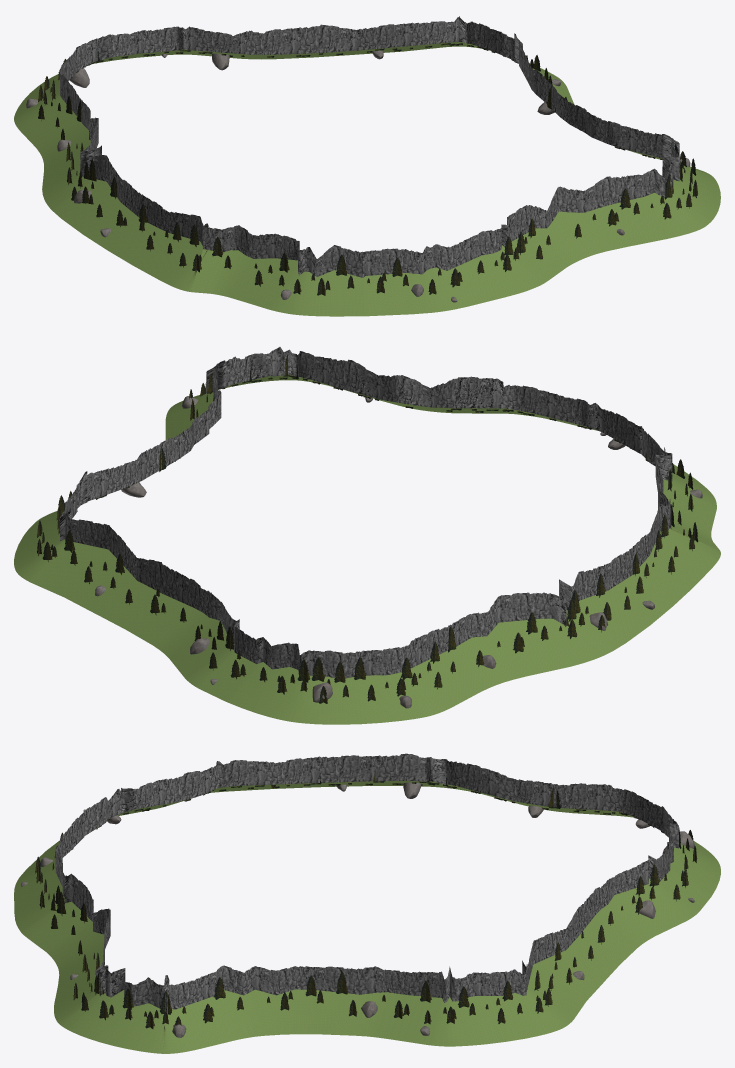
3 renders of one model, top to bottom at view 1: azimuth 30°, elevation 25°; view 2: azimuth 150°, elevation 25°; view 3: azimuth 270°, elevation 25°, orthographic. The views are drawn at different scales.
Parts seen in each view (by area): view 1: Wall_03, Wall_01, Wall_02, Wall_00, Wall_07, Wall_09, Wall_06, Wall_04, Wall_05, Wall_08, Trees_00, Trees_03 (+3 smaller); view 2: Wall_09, Wall_08, Wall_07, Wall_00, Wall_06, Wall_03, Wall_02, Wall_01, Wall_05, Wall_04, Trees_08, Trees_09 (+4 smaller); view 3: Wall_05, Wall_04, Wall_07, Wall_06, Wall_03, Wall_00, Wall_09, Wall_02, Wall_01, Wall_08, Trees_05, Trees_04 (+3 smaller).
Part boxes in pixels (box(x1,y1,x2,y2)): Wall_03: box(507, 166, 711, 279); Wall_01: box(173, 223, 365, 316); Wall_02: box(363, 219, 548, 316); Wall_00: box(52, 155, 205, 286); Wall_07: box(132, 24, 356, 59); Wall_09: box(14, 74, 101, 210); Wall_06: box(350, 16, 530, 64); Wall_04: box(604, 120, 720, 221); Wall_05: box(504, 33, 604, 142); Wall_08: box(14, 30, 142, 120); Trees_00: box(71, 159, 199, 267); Trees_03: box(516, 174, 691, 259); Wall_09: box(404, 579, 612, 715); Wall_08: box(228, 637, 431, 724); Wall_07: box(101, 558, 263, 702); Wall_00: box(573, 502, 717, 650); Wall_06: box(14, 488, 136, 616); Wall_03: box(277, 349, 497, 413); Wall_02: box(496, 378, 677, 466); Wall_01: box(642, 427, 720, 560); Wall_05: box(26, 405, 209, 532); Wall_04: box(165, 347, 283, 440); Trees_08: box(259, 657, 412, 703); Trees_09: box(411, 600, 584, 689); Wall_05: box(241, 966, 480, 1046); Wall_04: box(68, 965, 254, 1053); Wall_07: box(566, 843, 712, 979); Wall_06: box(469, 929, 605, 1044); Wall_03: box(28, 874, 110, 1029); Wall_00: box(210, 753, 430, 792); Wall_09: box(425, 757, 634, 817); Wall_02: box(14, 810, 84, 938); Wall_01: box(47, 761, 219, 850); Wall_08: box(620, 789, 720, 894); Trees_05: box(267, 971, 475, 1024); Trees_04: box(99, 977, 243, 1028).
Size of what is drawn, in the model's own units: 338 by 34.36 by 377.
